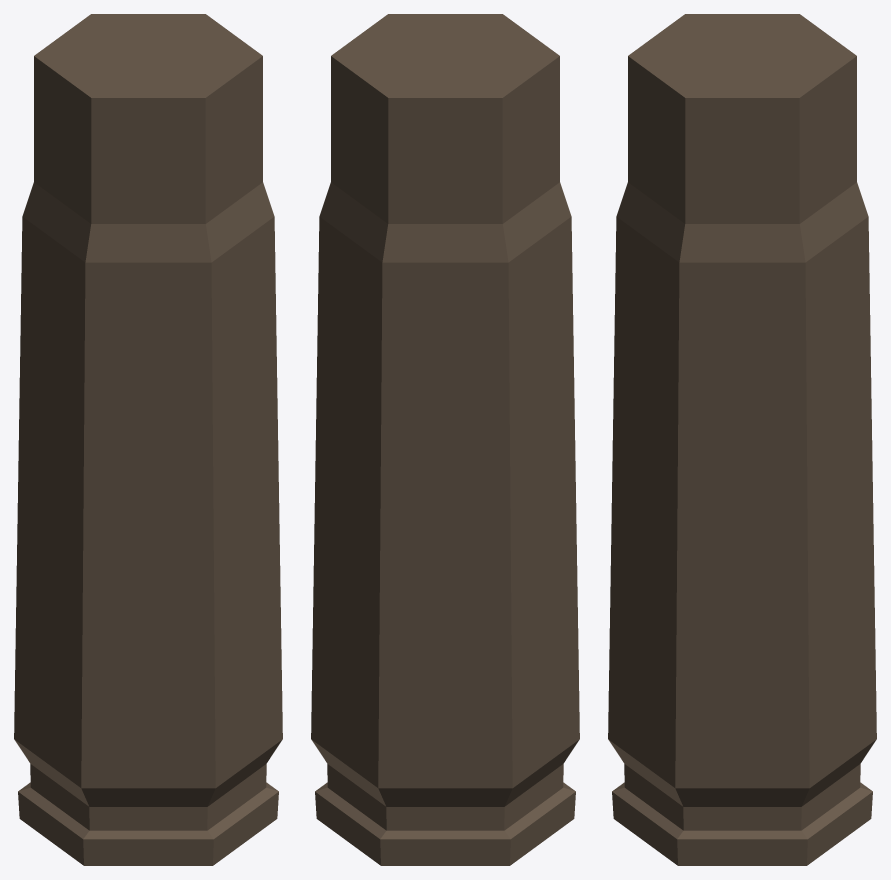
The model's file is x39casing.glb.
3 views of the same model, side by side, from view 1: azimuth 30°, elevation 25°; view 2: azimuth 150°, elevation 25°; view 3: azimuth 270°, elevation 25° (orthographic).
Visible parts, largest first — view 1: 7.62x39mm_Bullet_Cylinder.009; view 2: 7.62x39mm_Bullet_Cylinder.009; view 3: 7.62x39mm_Bullet_Cylinder.009.
Part boxes in pixels (x1,y1,x2,y2): 7.62x39mm_Bullet_Cylinder.009: [14, 14, 282, 865]; 7.62x39mm_Bullet_Cylinder.009: [311, 14, 579, 865]; 7.62x39mm_Bullet_Cylinder.009: [608, 14, 876, 865].
Bounding box in the file's own units: 0.0721 × 0.2605 × 0.0832.
